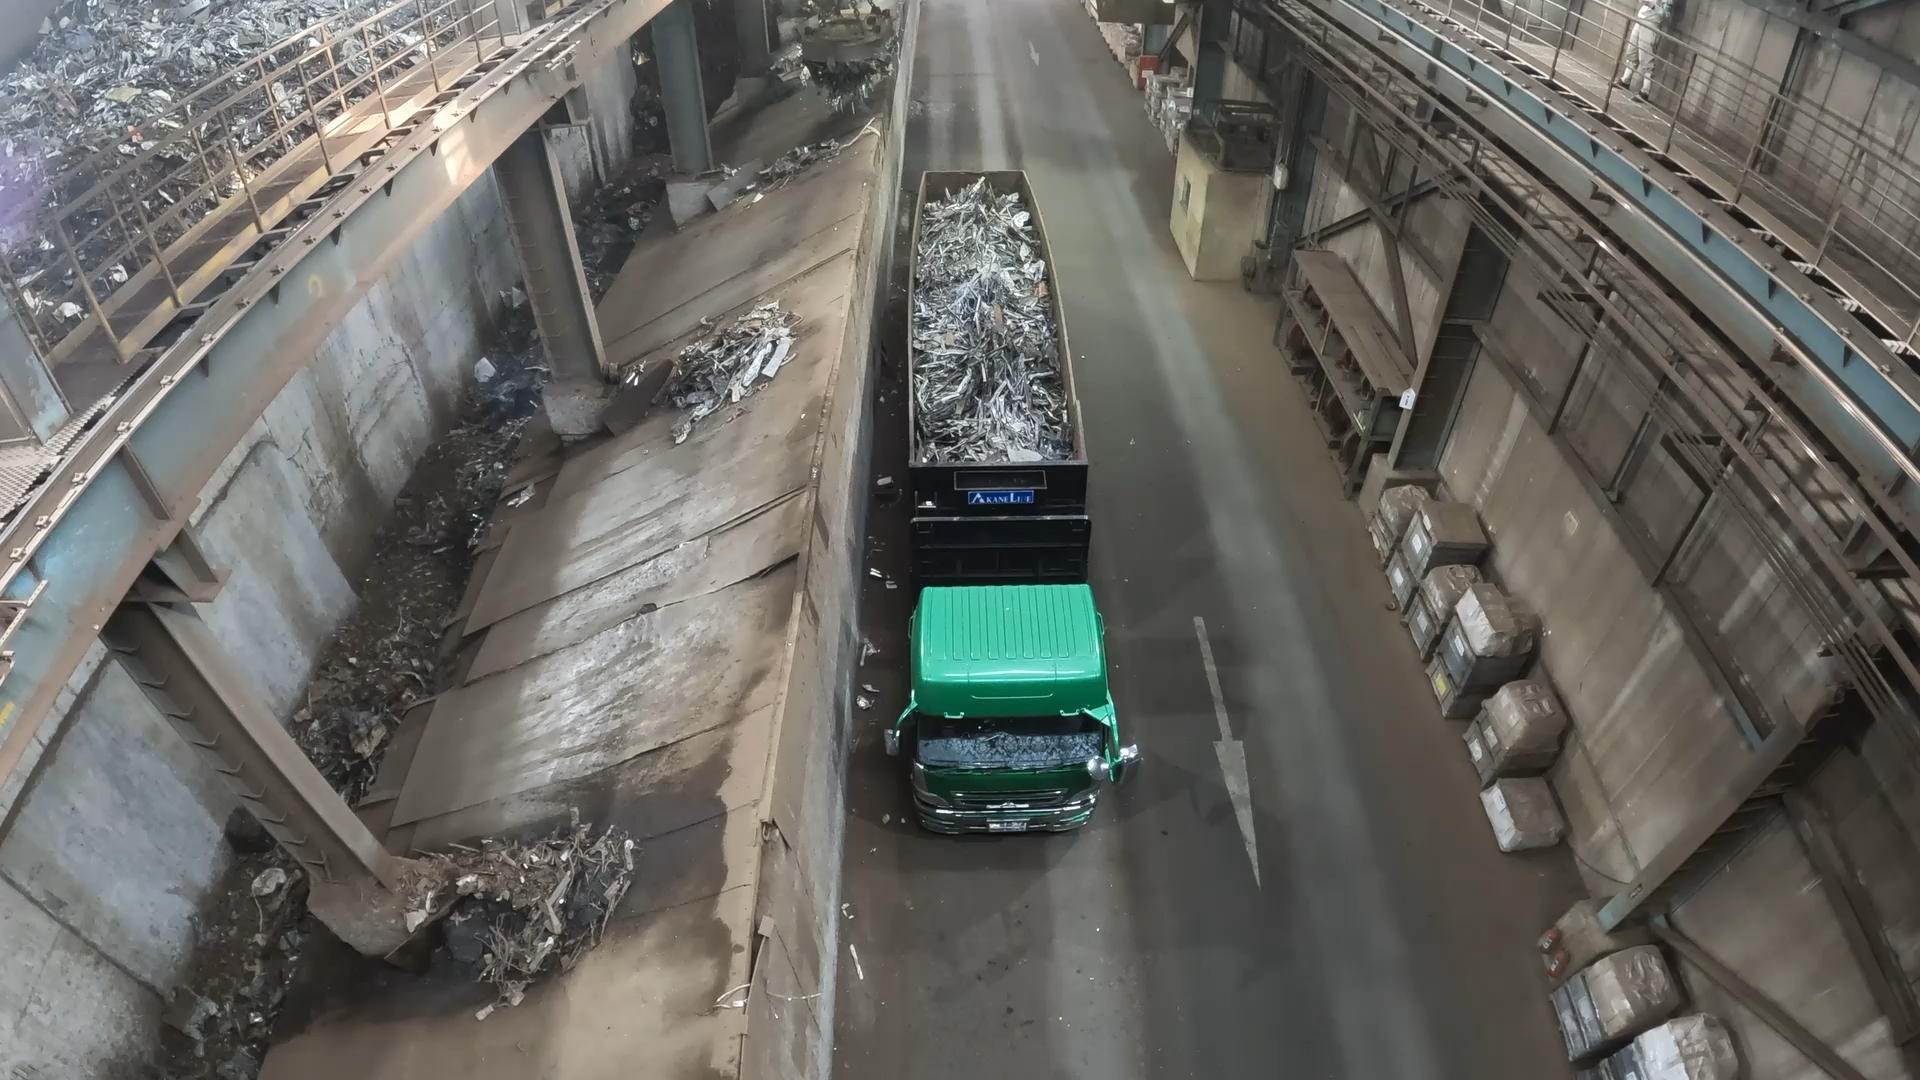truck: (909, 170, 1088, 465)
